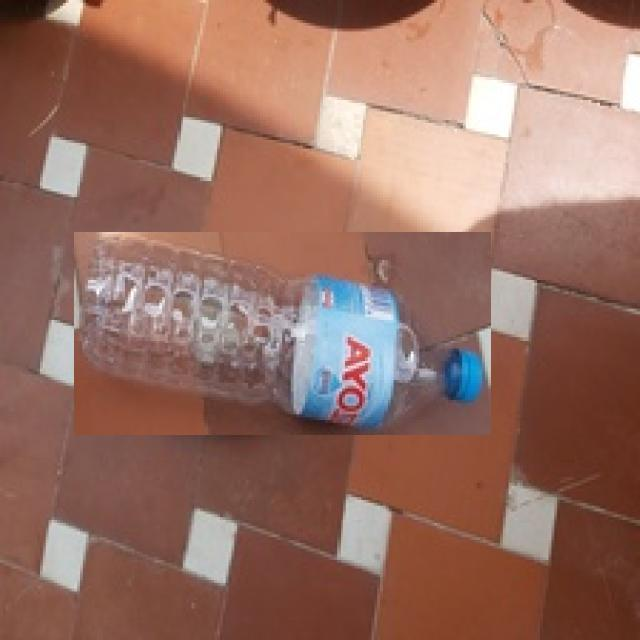bottle: (74, 232, 491, 435)
cap: (448, 345, 485, 403)
label: (307, 270, 398, 431)
